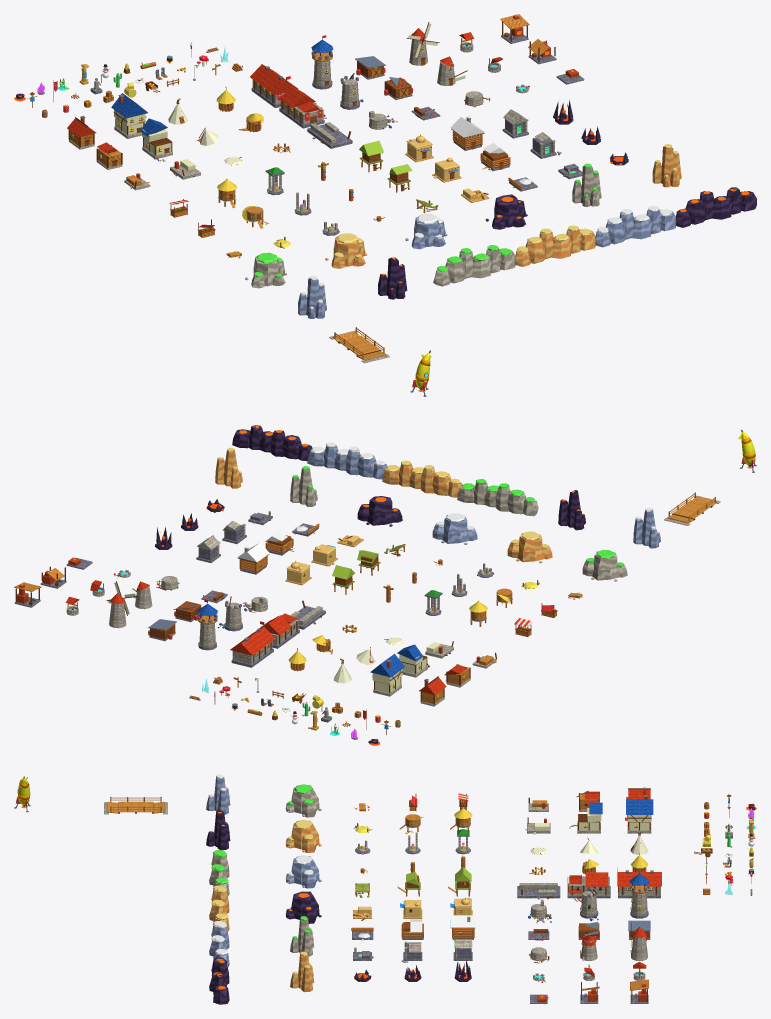
File: props.glb
3 views of the same model, one above another, from view 1: azimuth 30°, elevation 25°; view 2: azimuth 150°, elevation 25°; view 3: azimuth 270°, elevation 25° (orthographic). The views are drawn at different scales.
Visible parts, largest first — view 1: cliff_ridge_g__0, cliff_ridge_s__0, cliff_ridge_w__0, cliff_ridge_v__0, barracks__1, barracks__0, house2__0, cliff_mesa_s__0, cliff_mesa_g__0, cliff_mesa_w__0, bridge__0, cliff_mesa_v__0 (+10 smaller); view 2: cliff_ridge_g__0, cliff_ridge_w__0, cliff_ridge_s__0, cliff_ridge_v__0, barracks__0, cliff_mesa_w__0, cliff_mesa_g__0, cliff_mesa_s__0, house2__0, cliff_mesa_v__0, bridge__0, barracks__1 (+9 smaller); view 3: barracks__1, bridge__0, house2__0, barracks__0, cliff_mesa_s__0, cliff_mesa_g__0, cliff_mesa_w__0, cliff_ridge_v__0, cliff_mesa_v__0, tower__0, barracks__2, house2__1 (+13 smaller).
Boxes of the visible parts, x1=… form: cliff_ridge_g__0: x1=433, y1=245, x2=515, y2=286; cliff_ridge_s__0: x1=515, y1=225, x2=595, y2=266; cliff_ridge_w__0: x1=595, y1=206, x2=676, y2=247; cliff_ridge_v__0: x1=676, y1=187, x2=756, y2=227; barracks__1: x1=279, y1=86, x2=326, y2=128; barracks__0: x1=250, y1=64, x2=298, y2=107; house2__0: x1=111, y1=93, x2=147, y2=138; cliff_mesa_s__0: x1=325, y1=233, x2=367, y2=268; cliff_mesa_g__0: x1=245, y1=252, x2=286, y2=288; cliff_mesa_w__0: x1=405, y1=213, x2=447, y2=249; bridge__0: x1=329, y1=327, x2=389, y2=363; cliff_mesa_v__0: x1=485, y1=194, x2=527, y2=229; cliff_ridge_g__0: x1=457, y1=479, x2=538, y2=516; cliff_ridge_w__0: x1=307, y1=442, x2=387, y2=479; cliff_ridge_s__0: x1=382, y1=460, x2=462, y2=497; cliff_ridge_v__0: x1=232, y1=425, x2=312, y2=461; barracks__0: x1=230, y1=621, x2=275, y2=667; cliff_mesa_w__0: x1=432, y1=513, x2=477, y2=544; cliff_mesa_g__0: x1=582, y1=549, x2=627, y2=581; cliff_mesa_s__0: x1=507, y1=531, x2=552, y2=563; house2__0: x1=370, y1=653, x2=404, y2=696; cliff_mesa_v__0: x1=357, y1=496, x2=402, y2=526; bridge__0: x1=664, y1=492, x2=720, y2=525; barracks__1: x1=259, y1=613, x2=299, y2=648; barracks__1: x1=567, y1=872, x2=610, y2=901; bridge__0: x1=104, y1=797, x2=167, y2=814; house2__0: x1=625, y1=795, x2=653, y2=833; barracks__0: x1=617, y1=867, x2=661, y2=898; cliff_mesa_s__0: x1=285, y1=819, x2=321, y2=852; cliff_mesa_g__0: x1=285, y1=784, x2=321, y2=817; cliff_mesa_w__0: x1=285, y1=855, x2=321, y2=888; cliff_ridge_v__0: x1=209, y1=956, x2=229, y2=1004; cliff_mesa_v__0: x1=285, y1=891, x2=321, y2=923; tower__0: x1=629, y1=870, x2=649, y2=918; barracks__2: x1=517, y1=883, x2=560, y2=899; house2__1: x1=569, y1=802, x2=602, y2=833.
Bounding box in the file's own units: 86.48 × 9.27 × 133.
Materials: 33 (33 with a texture image).
